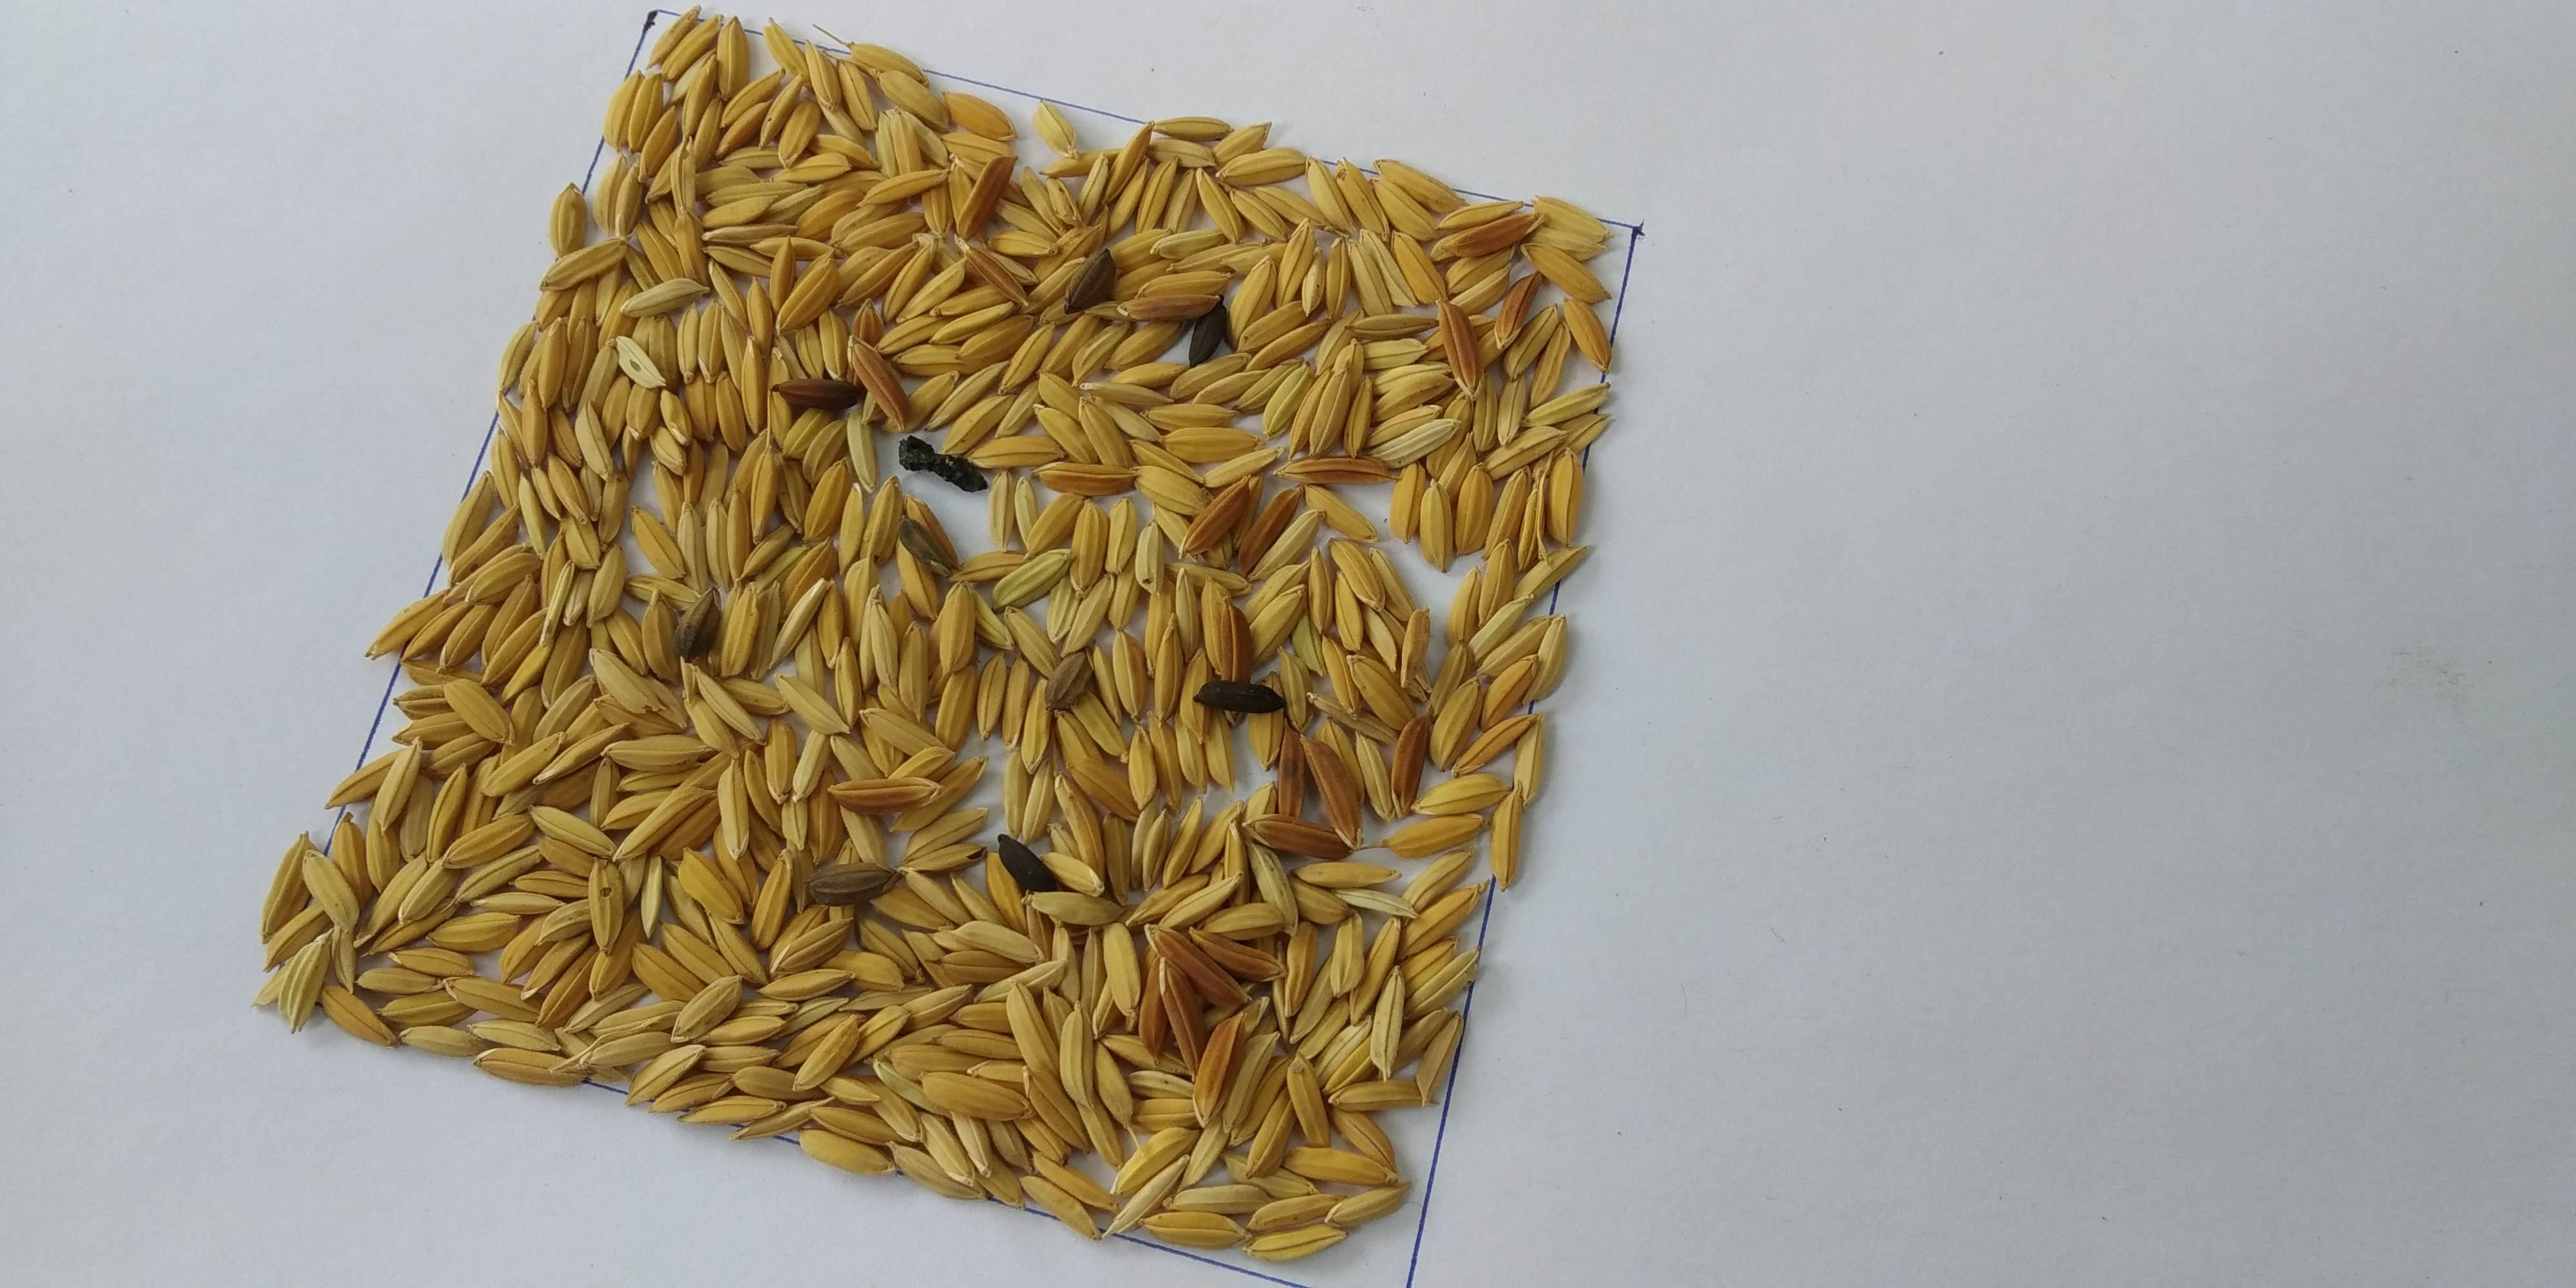Partialimpure: (562, 260, 1449, 1078)
